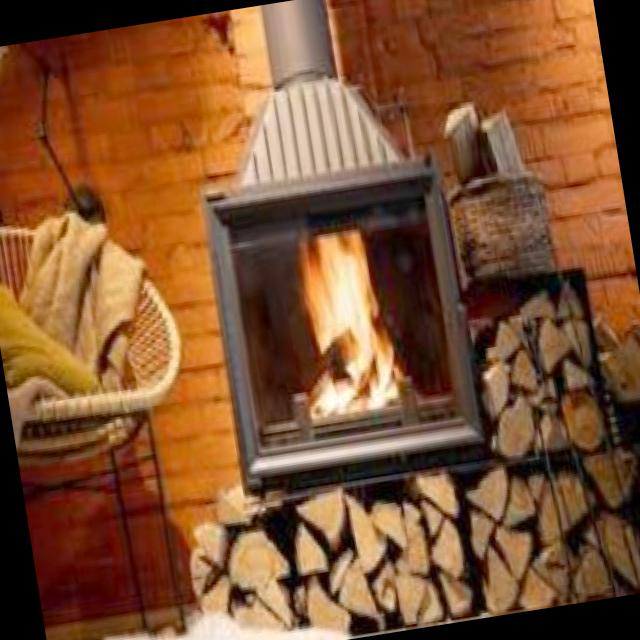Fire_Save: (278, 215, 412, 422)
